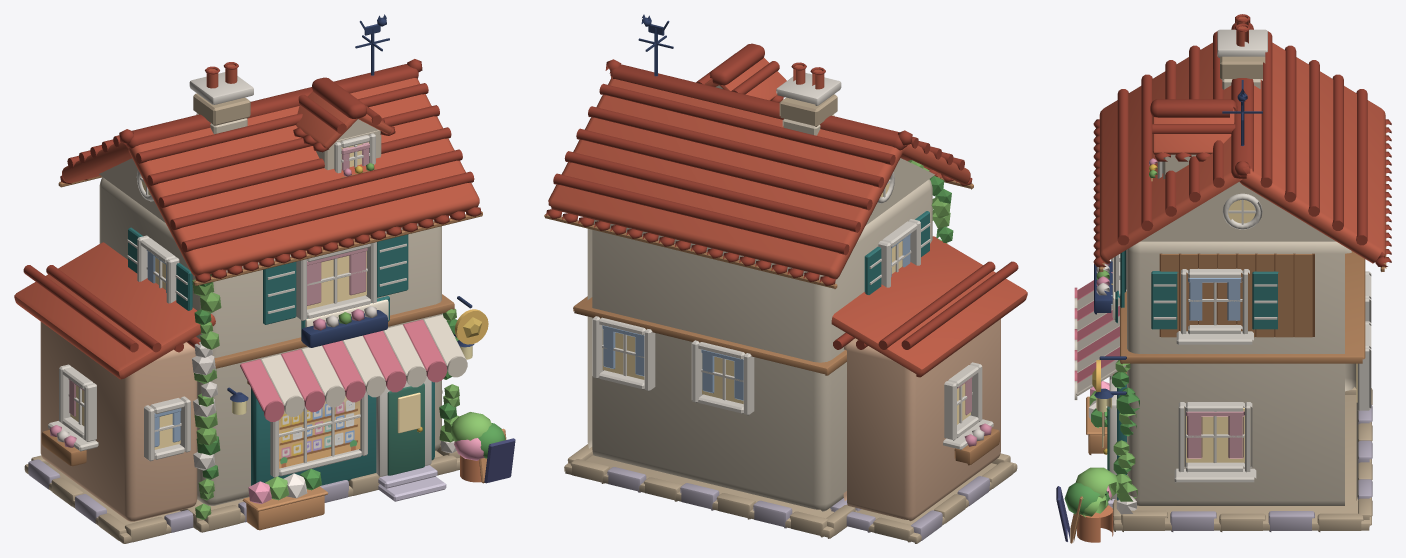
The model's file is ac_shop_r90.glb.
The picture shows the model from 3 angles, left to right: view 1: azimuth 30°, elevation 25°; view 2: azimuth 150°, elevation 25°; view 3: azimuth 270°, elevation 25°; orthographic projection. The views are drawn at different scales.
Parts seen in each view (by area): view 1: body, nomask; view 2: body; view 3: body, nomask.
Part boxes in pixels (left/top/right/bottom): body: left=14, top=14, right=488, bottom=543; nomask: left=242, top=412, right=515, bottom=530; body: left=544, top=14, right=1027, bottom=543; body: left=1074, top=14, right=1391, bottom=531; nomask: left=1056, top=381, right=1119, bottom=543.
Bounding box in the file's own units: 10.02 × 10.52 × 7.38.
7 materials, 1 textured.
